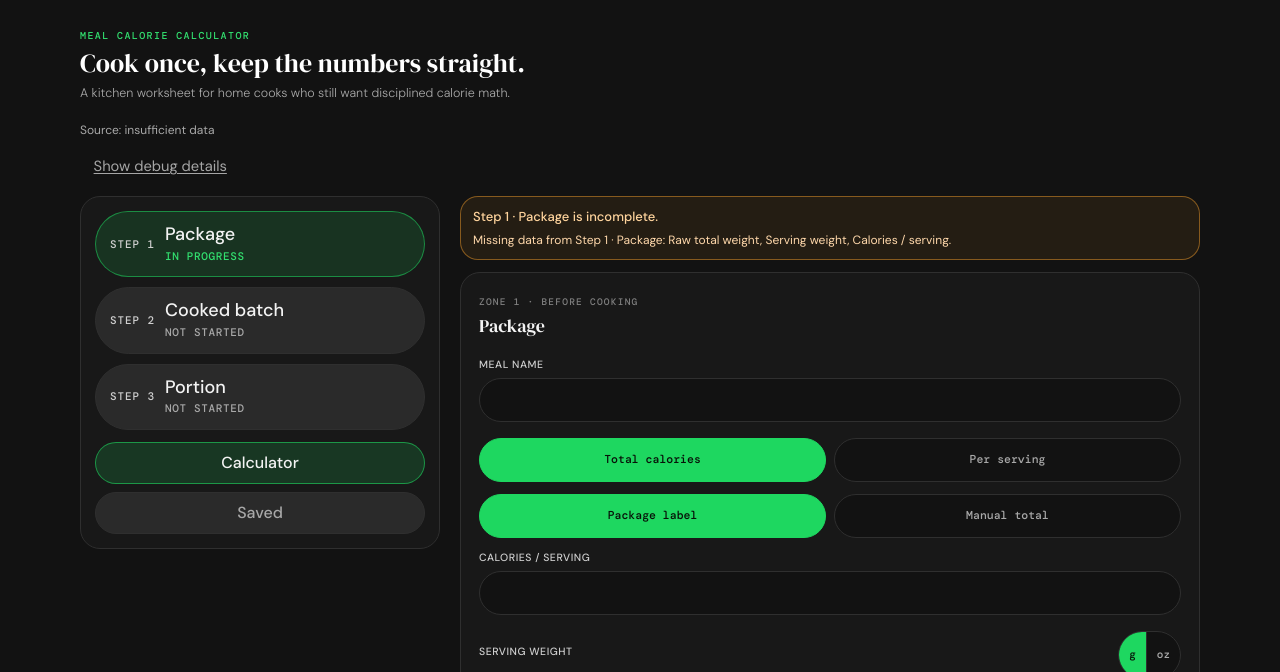
it: ZoneLayout › renders zone eyebrows and titles
Expected: the text "Zone 1 · Before cooking" is shown, [479,296,638,308]
Expected: the heading "Package" is shown, [479,313,545,338]
Step 1. Click the button "Step 2 Cooked batch Not started" → (260, 320), box [95,287,425,354]
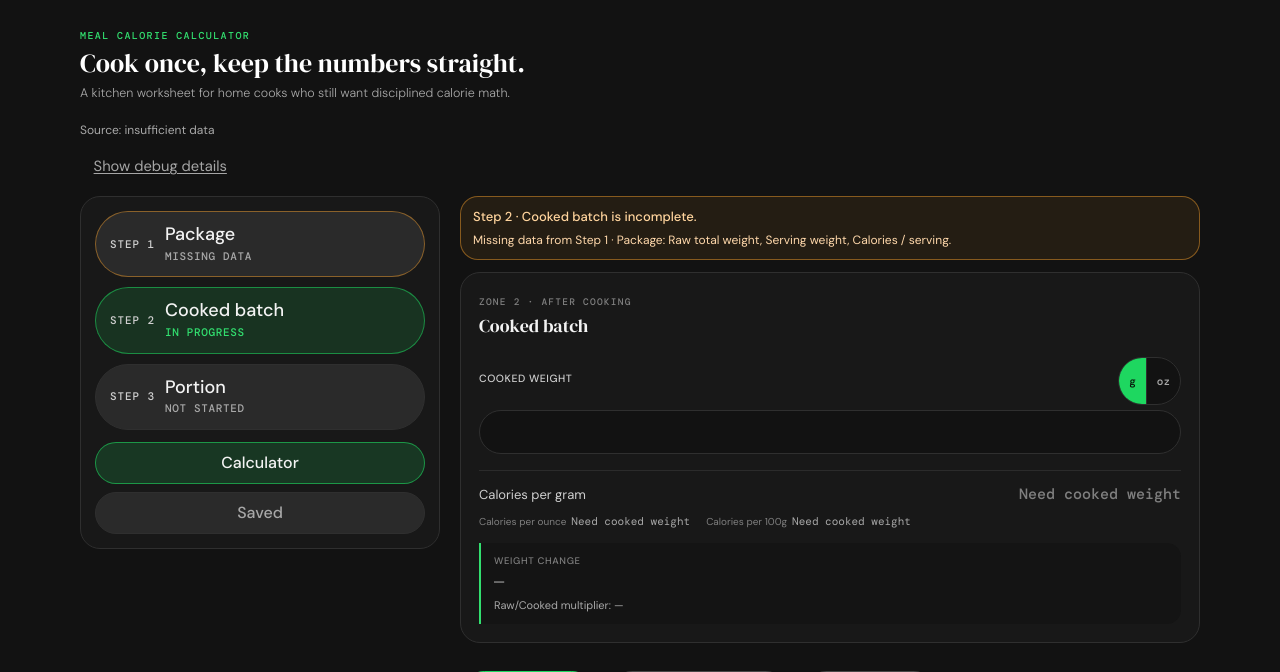
Result: the text "Zone 2 · After cooking" is shown at [479,296,632,308]
Result: the heading "Cooked batch" is shown at [479,313,588,338]
Step 2. Click the button "Step 3 Portion Not started" → (132, 396), box [95,364,425,430]
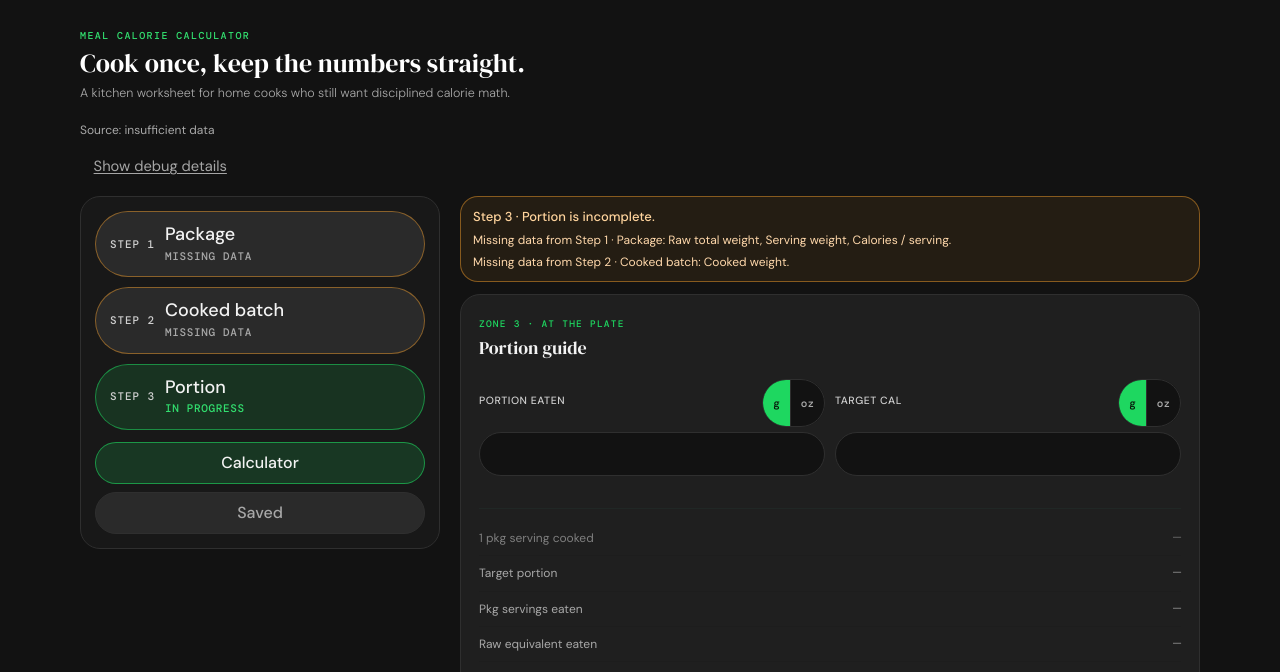
Result: the text "Zone 3 · At the plate" is shown at [479,318,625,330]
Result: the heading "Portion guide" is shown at [479,335,587,360]
